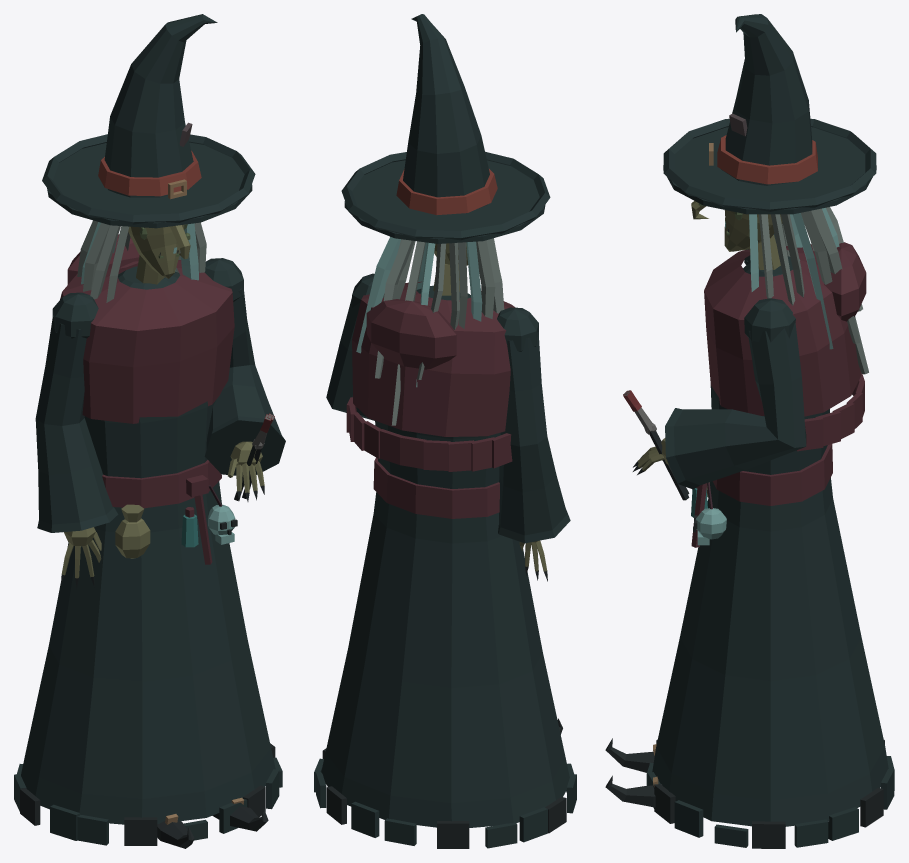
The model's file is vrajitoare_tortura_2.glb.
3 renders of one model, left to right at view 1: azimuth 30°, elevation 25°; view 2: azimuth 150°, elevation 25°; view 3: azimuth 270°, elevation 25°, orthographic. The views are drawn at different scales.
Parts seen in each view (by area): view 1: Corp, Cap, BratDrept, BratStang; view 2: Corp, Cap, BratDrept, BratStang; view 3: Corp, Cap, BratStang.
Boxes of the visible parts, <box> form: Corp: <box>14,234,282,848</box>; Cap: <box>42,14,255,302</box>; BratDrept: <box>35,292,118,588</box>; BratStang: <box>204,258,285,501</box>; Corp: <box>314,281,576,848</box>; Cap: <box>341,14,550,425</box>; BratDrept: <box>497,307,570,581</box>; BratStang: <box>326,273,374,420</box>; Corp: <box>605,242,894,848</box>; Cap: <box>663,14,876,374</box>; BratStang: <box>623,298,806,500</box>.
Bounding box in the file's own units: 0.7044 × 2.22 × 0.7327.
